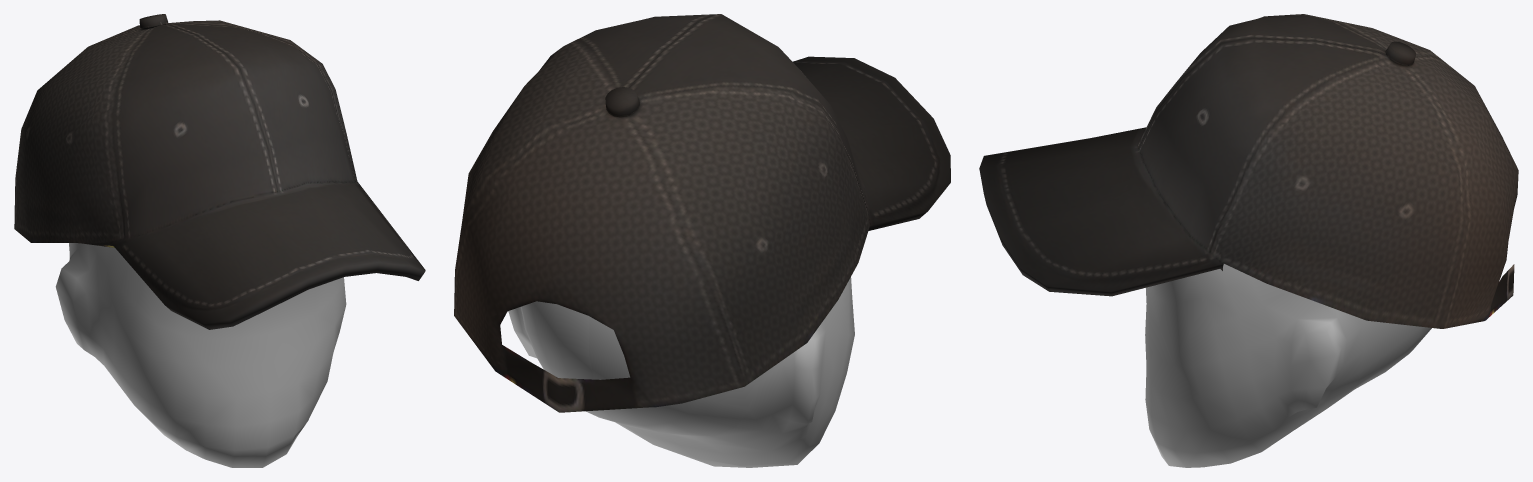
File: hat.glb
The picture shows the model from 3 angles, left to right: view 1: azimuth 30°, elevation 25°; view 2: azimuth 150°, elevation 25°; view 3: azimuth 270°, elevation 25°; orthographic projection. The views are drawn at different scales.
Parts seen in each view (by area): view 1: Wolf3D_Avatar.001, HeadOccluder; view 2: Wolf3D_Avatar.001, HeadOccluder; view 3: Wolf3D_Avatar.001, HeadOccluder.
Part boxes in pixels (x1,y1,x2,y2): Wolf3D_Avatar.001: [14, 14, 425, 329]; HeadOccluder: [55, 243, 346, 467]; Wolf3D_Avatar.001: [454, 14, 950, 412]; HeadOccluder: [508, 277, 854, 467]; Wolf3D_Avatar.001: [979, 14, 1518, 328]; HeadOccluder: [1145, 264, 1431, 467].
Bounding box in the file's own units: 0.1903 × 0.2536 × 0.2943.
2 materials, 1 textured.
